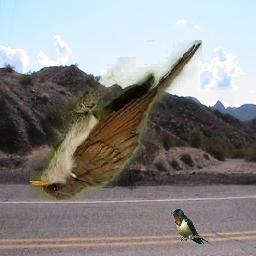Cuckoo: (30, 40, 202, 200)
Swallow: (170, 208, 210, 244)
